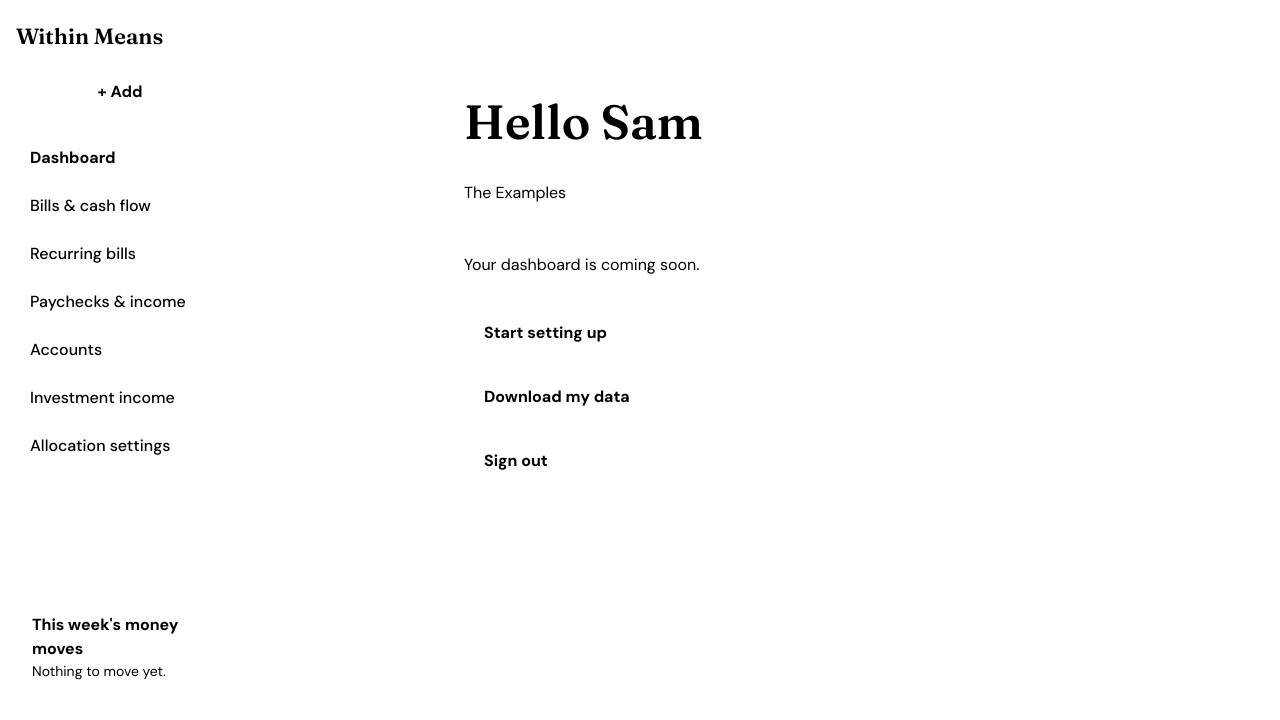
Test case: P2-06 getting to the Bills & cash flow page › opens from the sidebar, and links on to Recurring bills
Expected: the heading "Hello Sam" is shown, x1=464 y1=96 x2=703 y2=149
Click the link "Bills & cash flow". click: (90, 206)
box: x1=30 y1=195 x2=151 y2=216
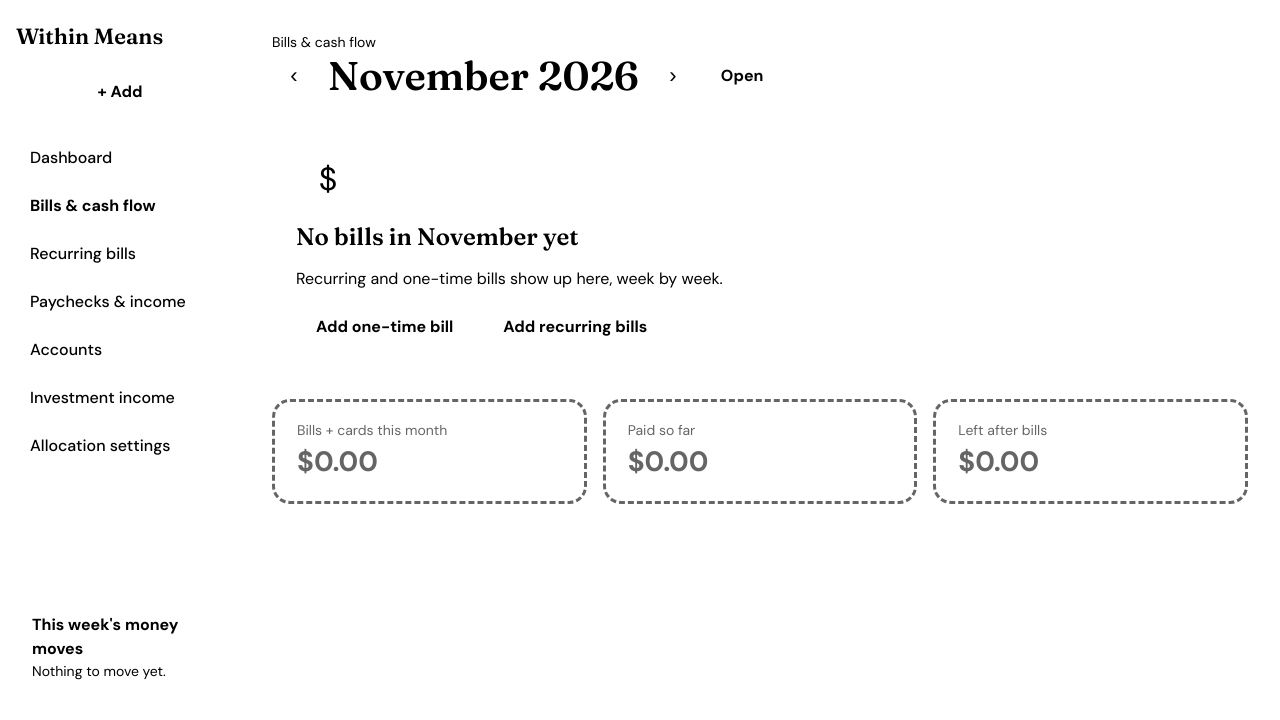
Expected: the heading "November 2026" is shown, x1=328 y1=53 x2=639 y2=99
Click the button "Add recurring bills". click: (575, 327)
box: x1=483 y1=303 x2=667 y2=351
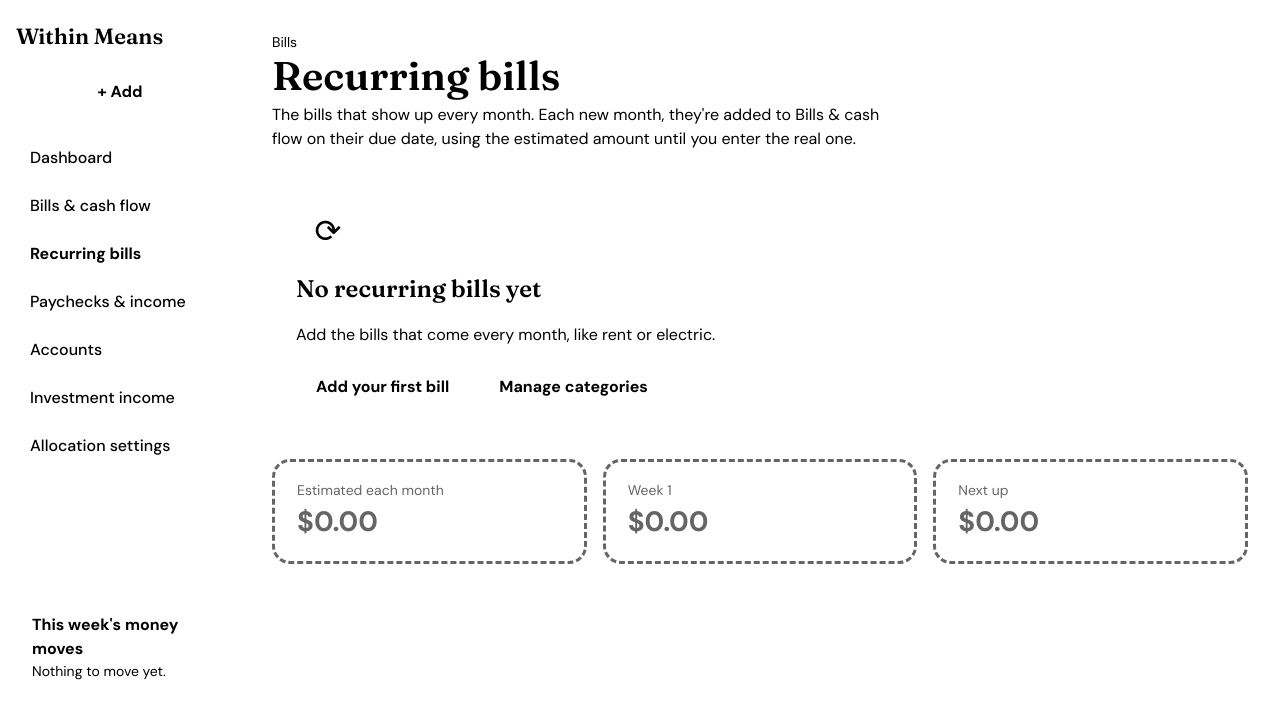
Expected: the heading "Recurring bills" is shown, x1=272 y1=51 x2=560 y2=100
